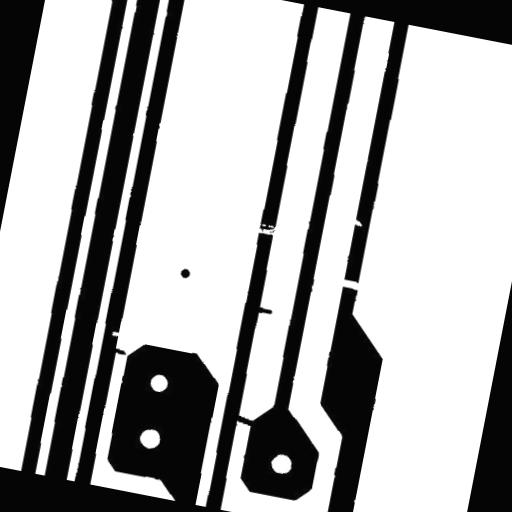copper: (171, 260, 199, 288)
mousebite: (342, 210, 372, 235), (102, 322, 128, 345)
open: (240, 212, 289, 245), (326, 268, 372, 299)
pin-hole: (140, 364, 178, 402)
short: (226, 406, 265, 435)
spur: (242, 296, 281, 324), (102, 338, 136, 364)
